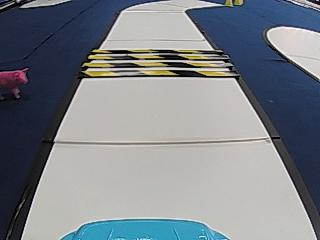bump: (75, 43, 242, 82)
